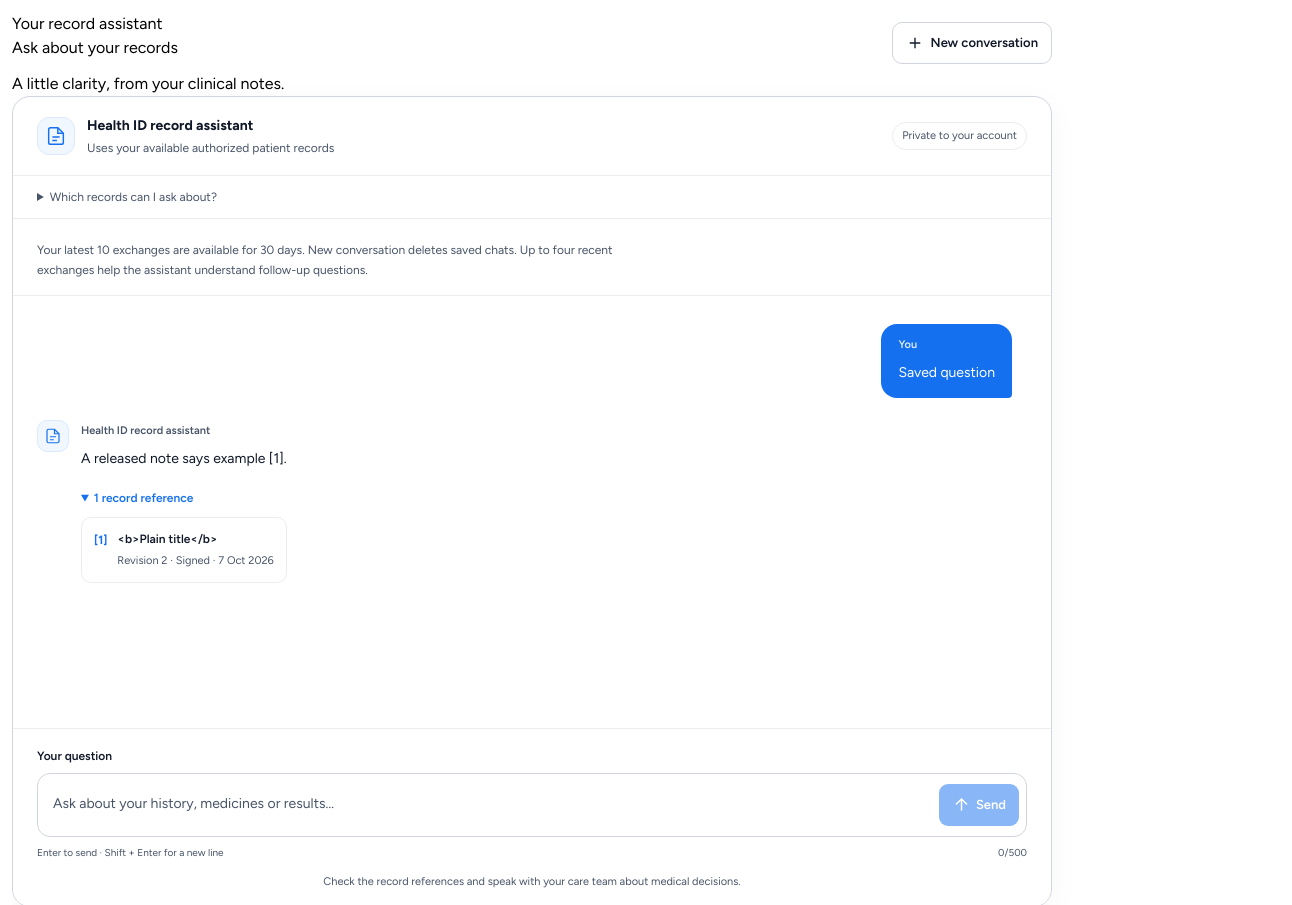
Test case: keeps history visible and reports failure if deletion is not confirmed
Expected: the text "Saved question" is shown, x1=898 y1=361 x2=995 y2=385
What coordinates should you click on to do the following:
click the button "New conversation"
I would click on:
 (972, 43)
Its box is x1=892 y1=22 x2=1052 y2=64.
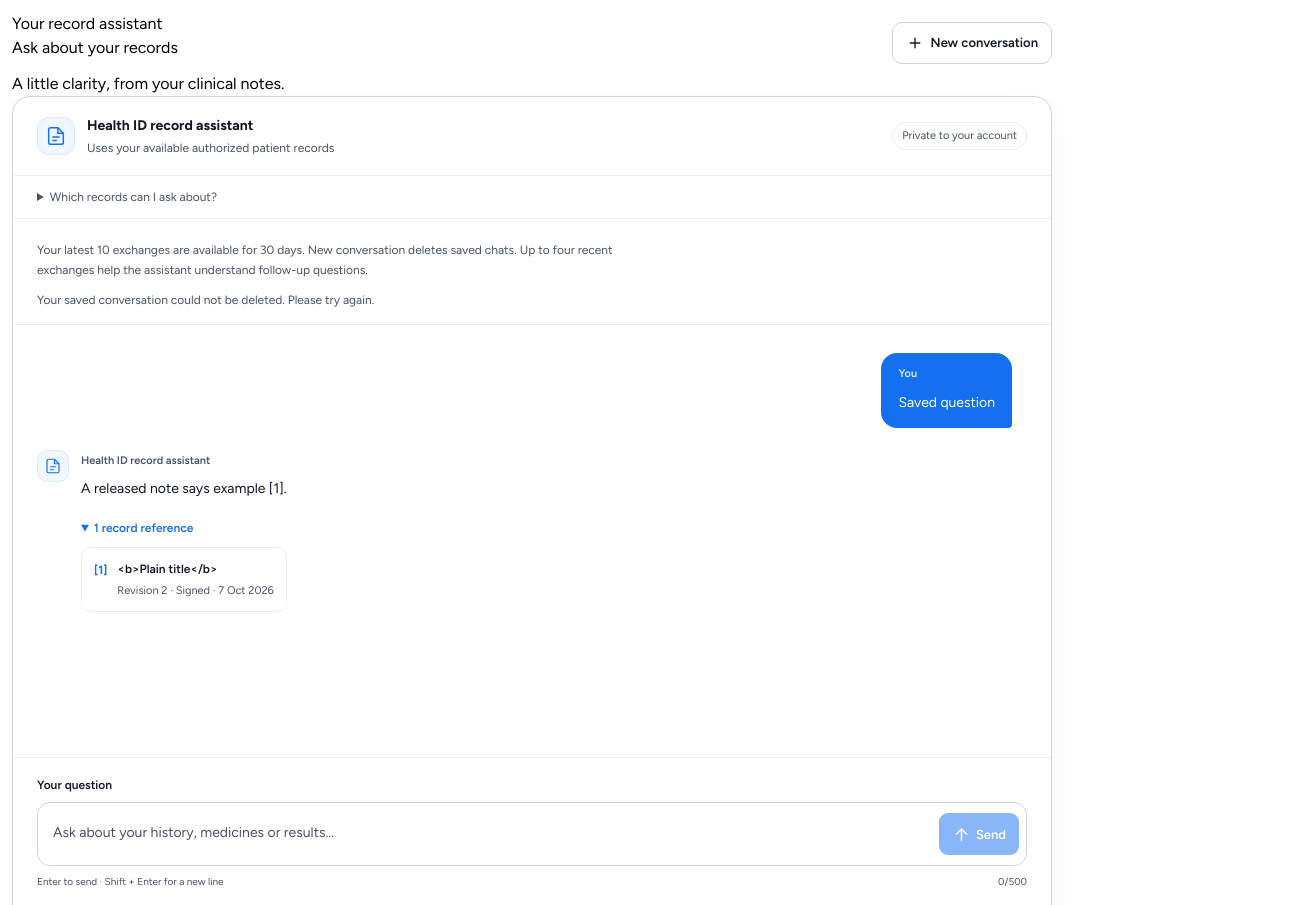
Expected: the text "Saved question" is shown, x1=898 y1=391 x2=995 y2=415
Expected: the message shows "could not be deleted", x1=37 y1=293 x2=374 y2=307
